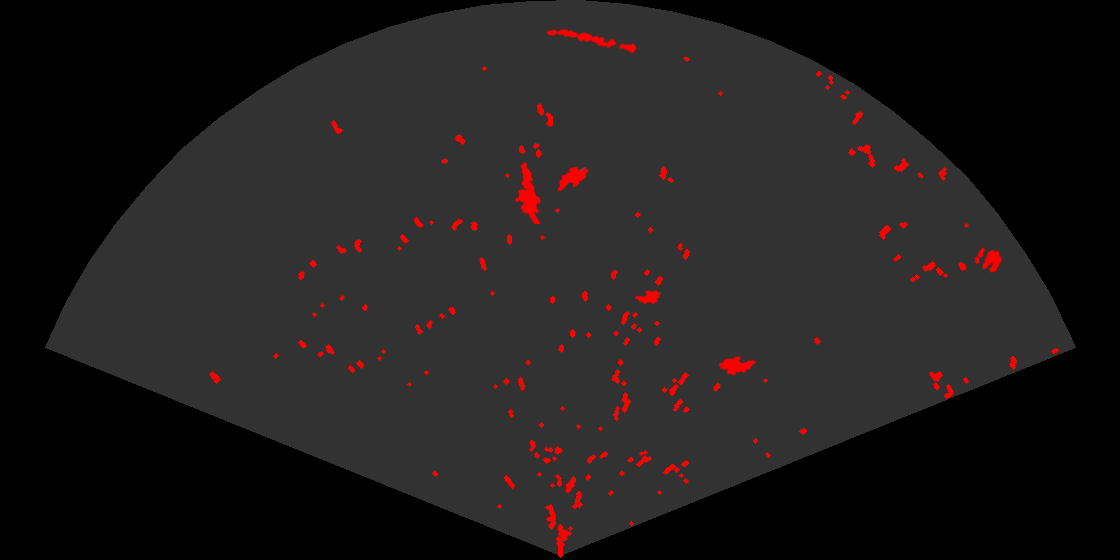AUV: (556, 165, 590, 193), (717, 355, 758, 377), (633, 289, 662, 304)
ball: (973, 246, 1004, 275)
chain: (544, 27, 642, 55)
frogman: (514, 160, 543, 224)
